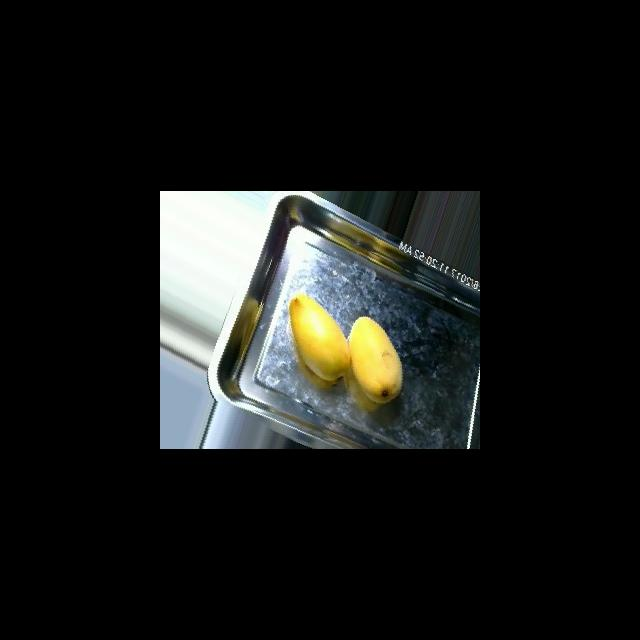Mango: (288, 292, 350, 382), (347, 315, 402, 404)
